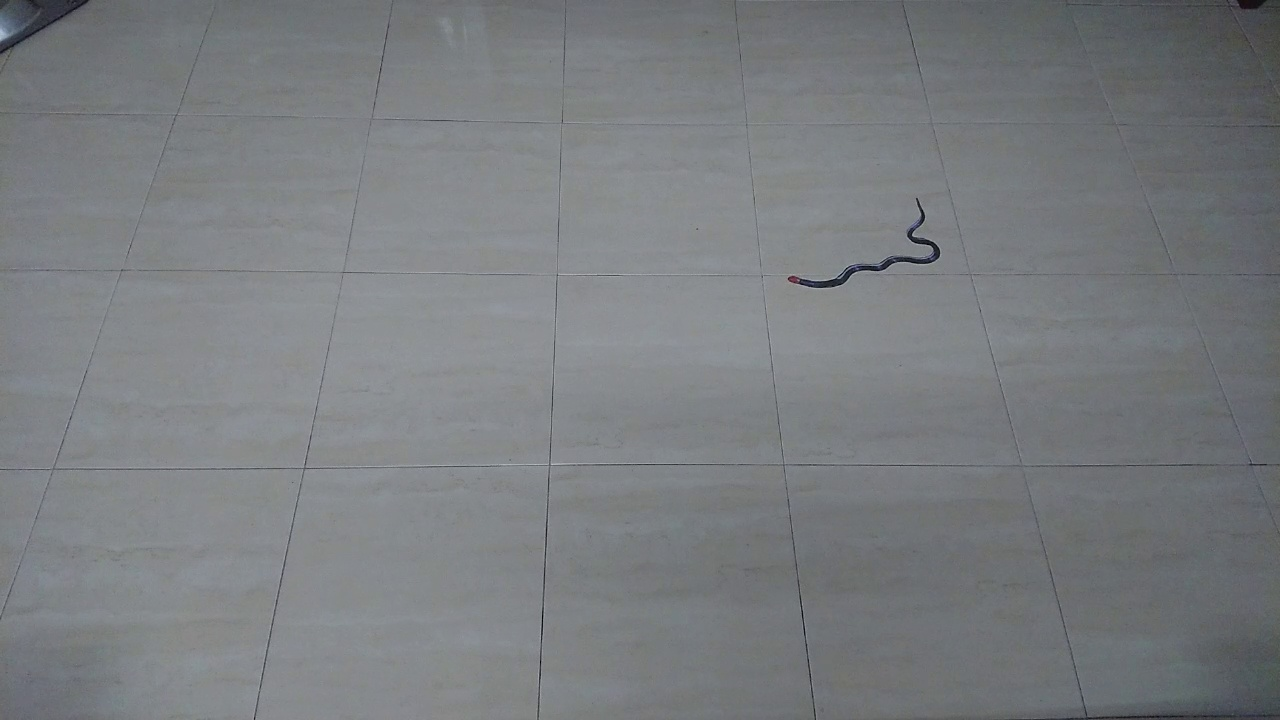snake: (773, 185, 950, 294)
